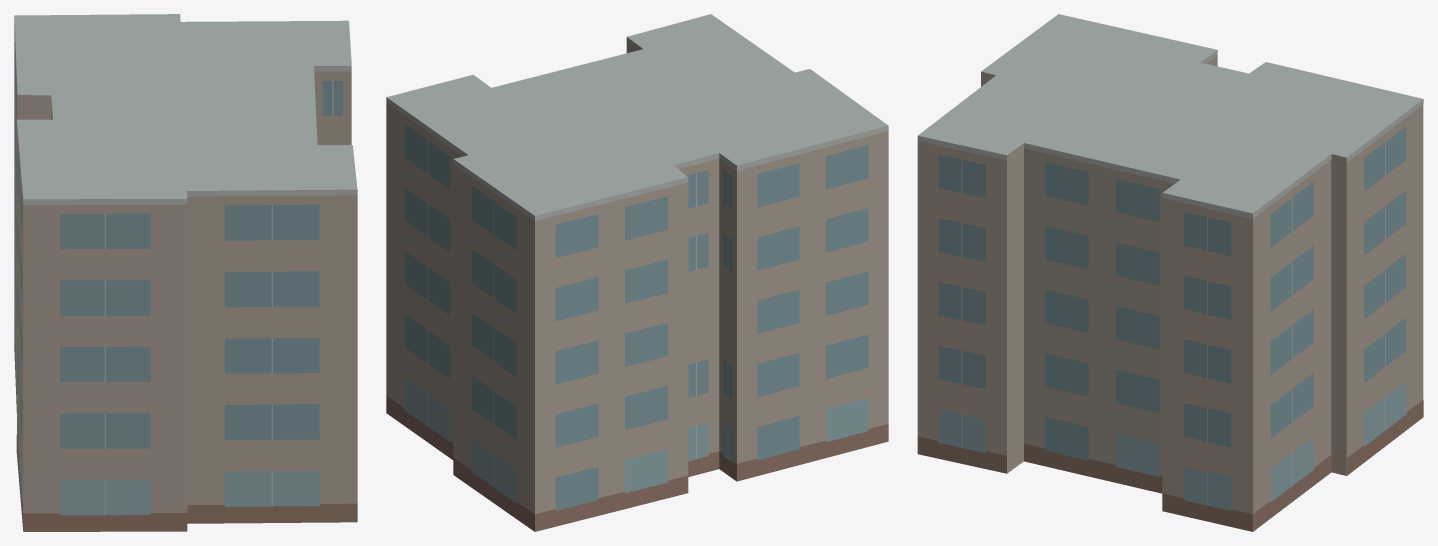
The model's file is survey-upis-33008715.glb.
3 renders of one model, left to right at view 1: azimuth 30°, elevation 25°; view 2: azimuth 150°, elevation 25°; view 3: azimuth 270°, elevation 25°, orthographic. The views are drawn at different scales.
Parts seen in each view (by area): view 1: survey-upis-33008715.tmp; view 2: survey-upis-33008715.tmp; view 3: survey-upis-33008715.tmp.
Part boxes in pixels (x1=…): survey-upis-33008715.tmp: x1=14, y1=14, x2=357, y2=531; survey-upis-33008715.tmp: x1=386, y1=14, x2=888, y2=531; survey-upis-33008715.tmp: x1=917, y1=14, x2=1423, y2=531.
Bounding box in the file's own units: 19.23 × 14.3 × 20.6.
